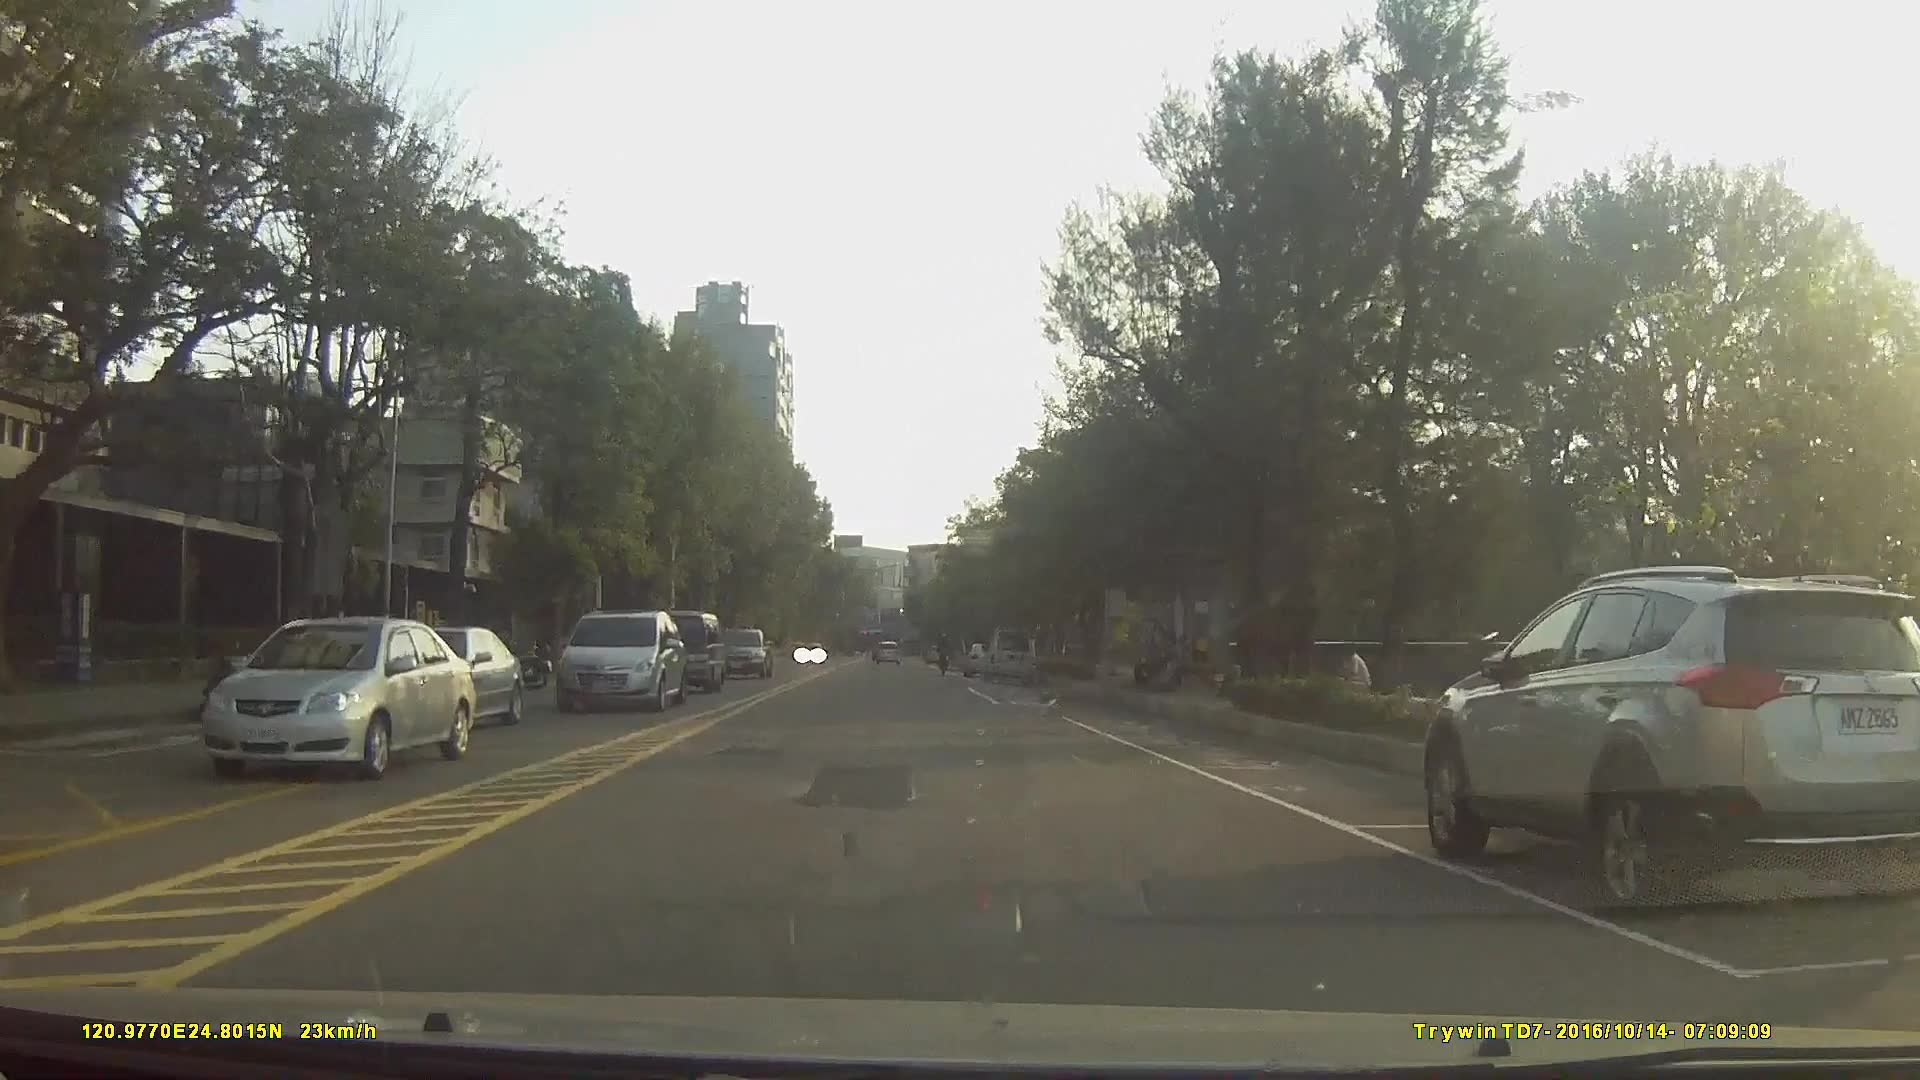rider: (935, 633, 955, 677)
vehicle: (1418, 561, 1920, 923), (194, 615, 475, 780), (383, 623, 524, 733), (551, 610, 685, 714), (634, 608, 723, 690), (976, 625, 1040, 680), (712, 625, 769, 677), (960, 639, 996, 677), (870, 636, 900, 665)
